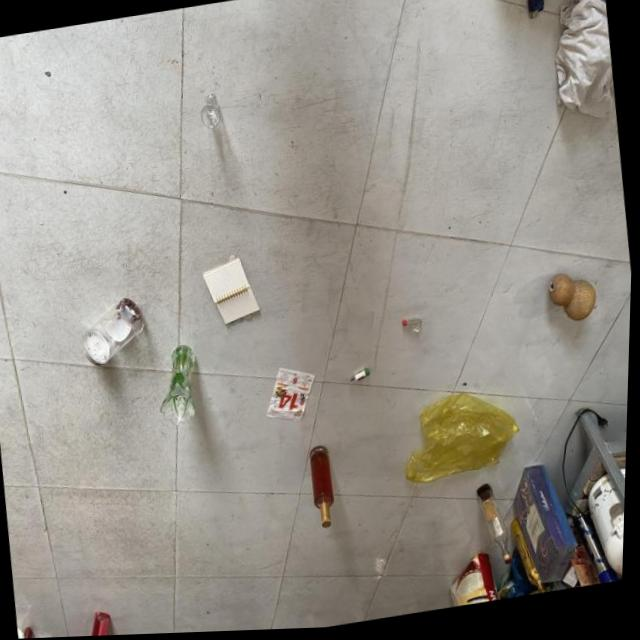foam box: (147, 338, 212, 429), (299, 425, 349, 540), (475, 463, 516, 565), (191, 83, 235, 148), (392, 315, 426, 346)
food: (245, 351, 331, 441), (198, 241, 276, 332)
leaf: (60, 290, 170, 376), (508, 0, 555, 30), (351, 364, 380, 392)
metal: (387, 382, 542, 497)
plastic: (533, 0, 620, 132)
plastic bag: (515, 269, 604, 346)
trash: (505, 466, 590, 593)
